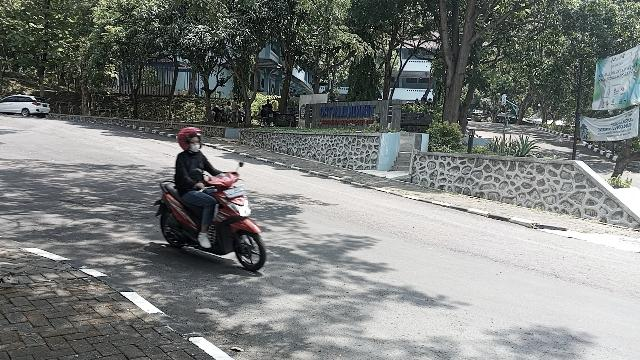helm: (178, 127, 207, 153)
motor: (153, 160, 269, 274)
